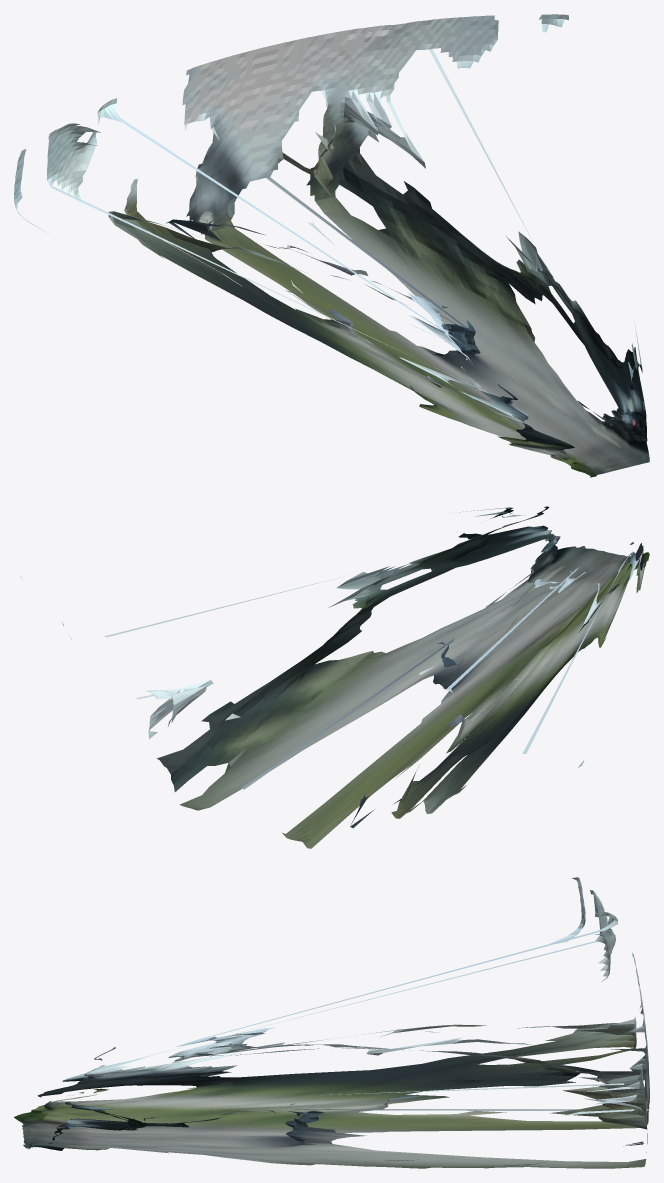
The picture shows the model from 3 angles, top to bottom: view 1: azimuth 30°, elevation 25°; view 2: azimuth 150°, elevation 25°; view 3: azimuth 270°, elevation 25°; orthographic projection. The views are drawn at different scales.
Visible parts, largest first — view 1: defaultobject; view 2: defaultobject; view 3: defaultobject.
Boxes of the visible parts, x1=… form: defaultobject: x1=14, y1=14, x2=649, y2=477; defaultobject: x1=20, y1=506, x2=649, y2=848; defaultobject: x1=14, y1=877, x2=649, y2=1168.
Bounding box in the file's own units: 39.8 × 12.46 × 45.09.
1 material, 1 textured.
